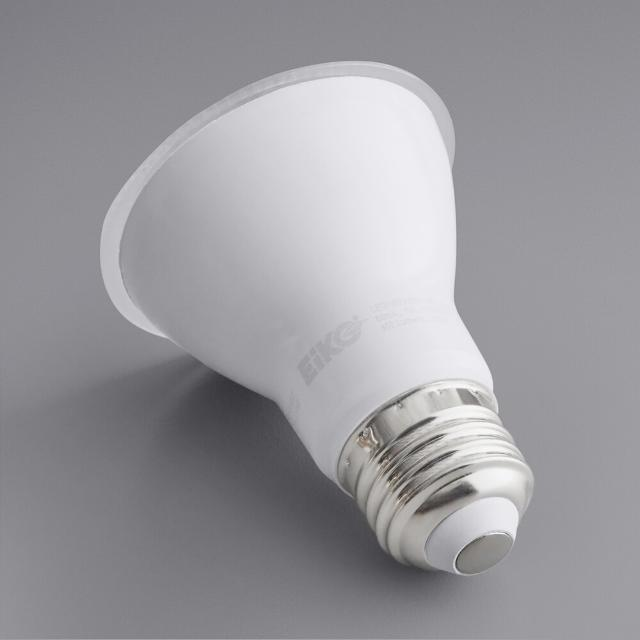light_bulb: (97, 53, 543, 594)
